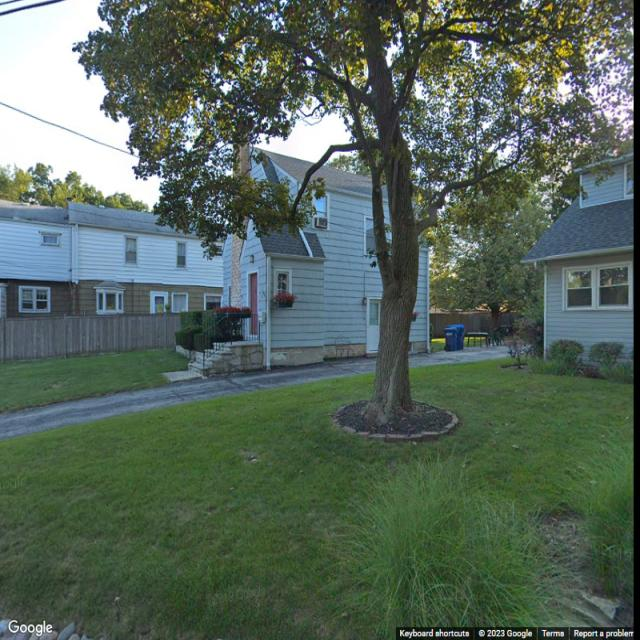House: (188, 127, 433, 375), (521, 152, 635, 377), (0, 201, 224, 314)
